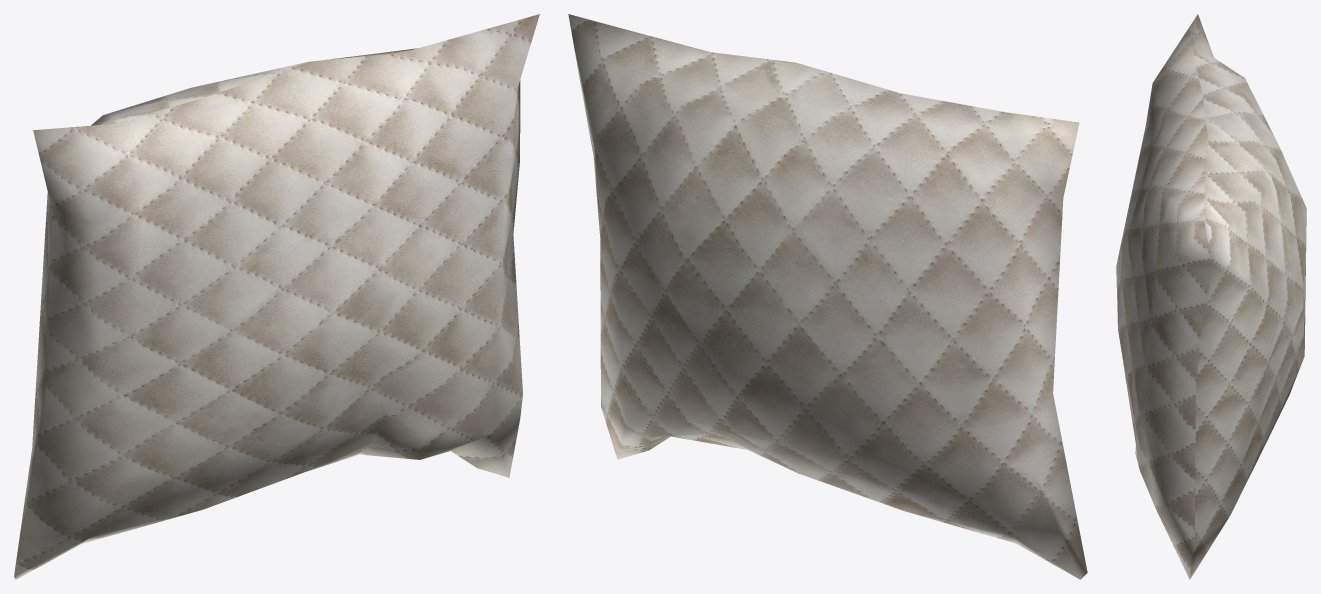
The model's file is Pillow.fbx.
3 renders of one model, left to right at view 1: azimuth 30°, elevation 25°; view 2: azimuth 150°, elevation 25°; view 3: azimuth 270°, elevation 25°, orthographic. The views are drawn at different scales.
Visible parts, largest first — view 1: Pillow Left; view 2: Pillow Left; view 3: Pillow Left.
Part boxes in pixels (left/top/right/bottom): Pillow Left: left=14, top=14, right=539, bottom=579; Pillow Left: left=568, top=14, right=1087, bottom=579; Pillow Left: left=1116, top=14, right=1306, bottom=579.
Size of the model in its own units: 85.34 by 71.29 by 32.64.
Materials: 1 (1 with a texture image).
